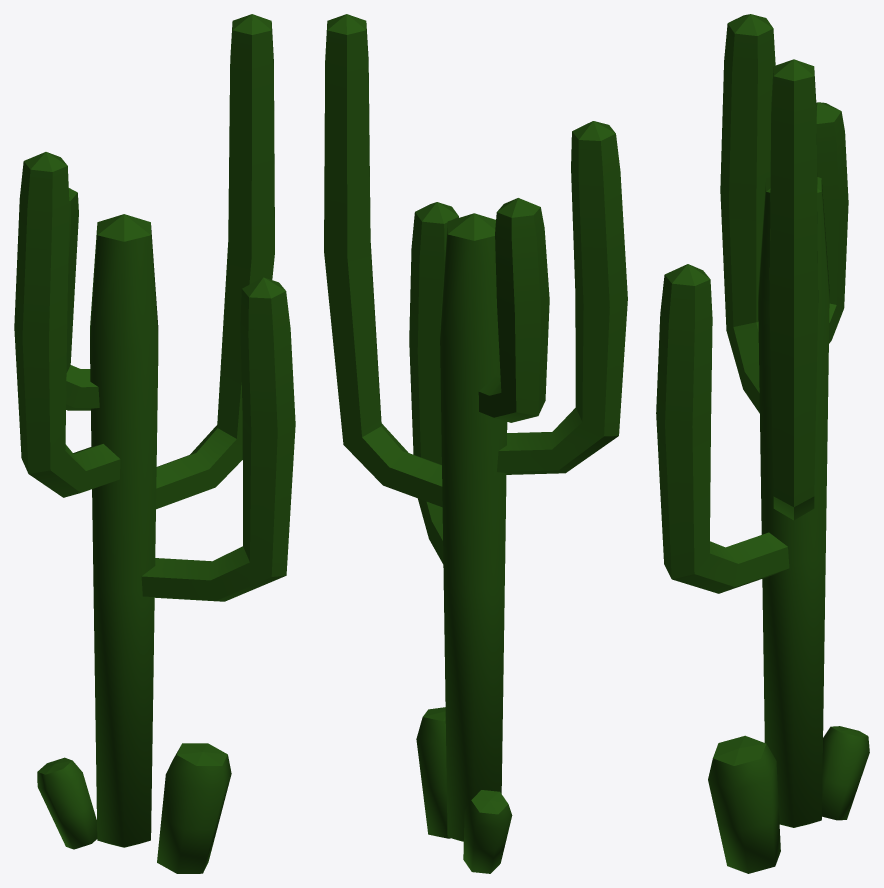
The model's file is SM_CactusBig.fbx.
3 views of the same model, side by side, from view 1: azimuth 30°, elevation 25°; view 2: azimuth 150°, elevation 25°; view 3: azimuth 270°, elevation 25° (orthographic). The views are drawn at different scales.
Visible parts, largest first — view 1: SM_CactusBig; view 2: SM_CactusBig; view 3: SM_CactusBig.
Boxes of the visible parts, <box> form: SM_CactusBig: <box>14,14,295,873</box>; SM_CactusBig: <box>324,14,627,873</box>; SM_CactusBig: <box>656,14,869,873</box>.
Size of the model in its own units: 142 by 90.43 by 396.
